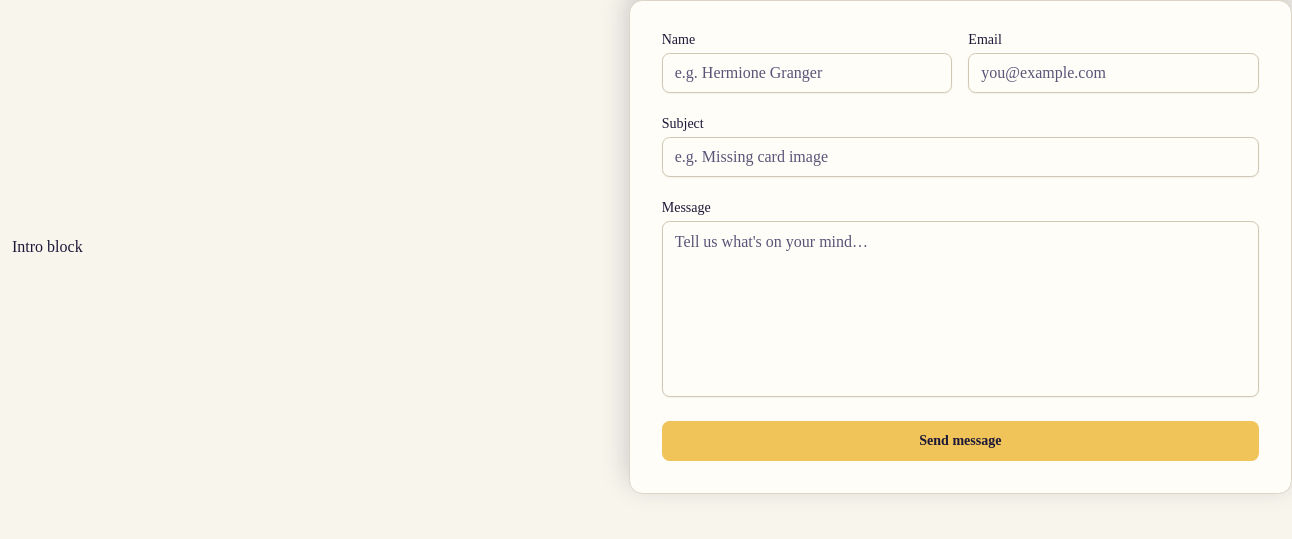
Test: ContactForm › shows the rate-limit error when the action returns error:rate
This screenshot has width=1292, height=539.
Type "Hermione" into the field labelled "Name". click: [807, 73]
box: top-left (662, 53), bottom-right (952, 93)
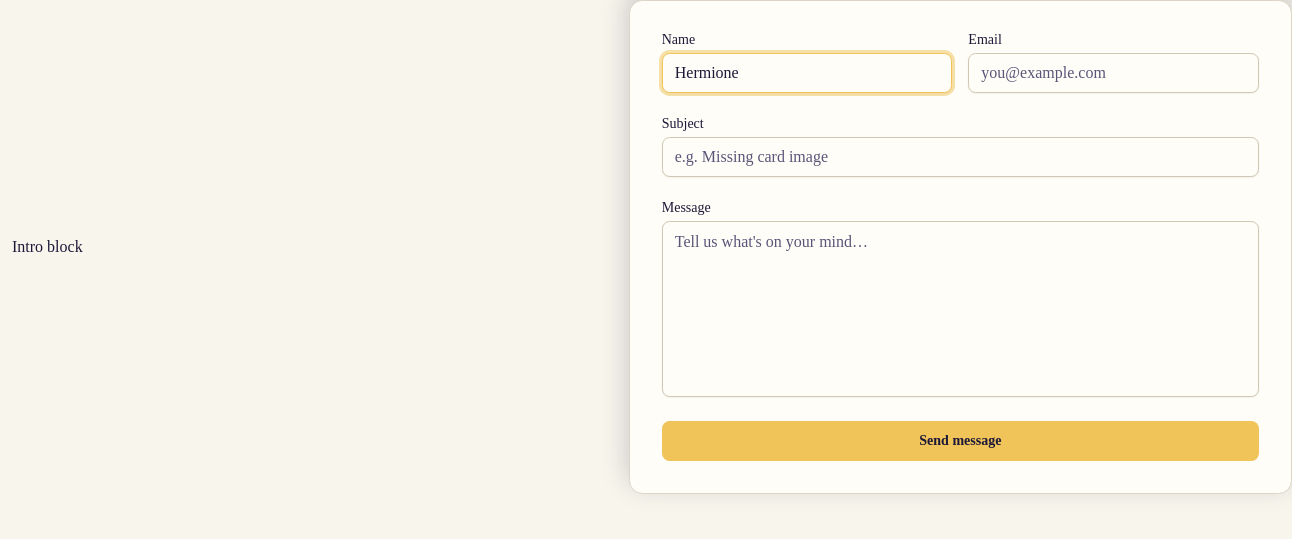
Type "hermione@example.com" into the field labelled "Email". click: [1114, 73]
box: top-left (968, 53), bottom-right (1259, 93)
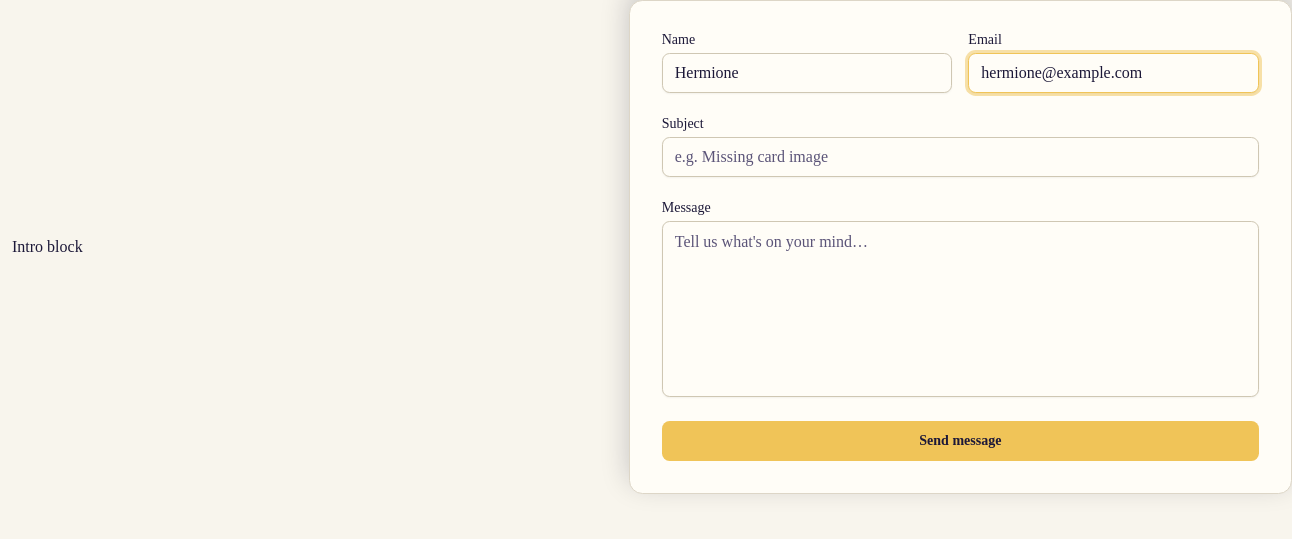
Type "Card data typo" into the field labelled "Subject". click: [960, 157]
box: top-left (662, 137), bottom-right (1259, 177)
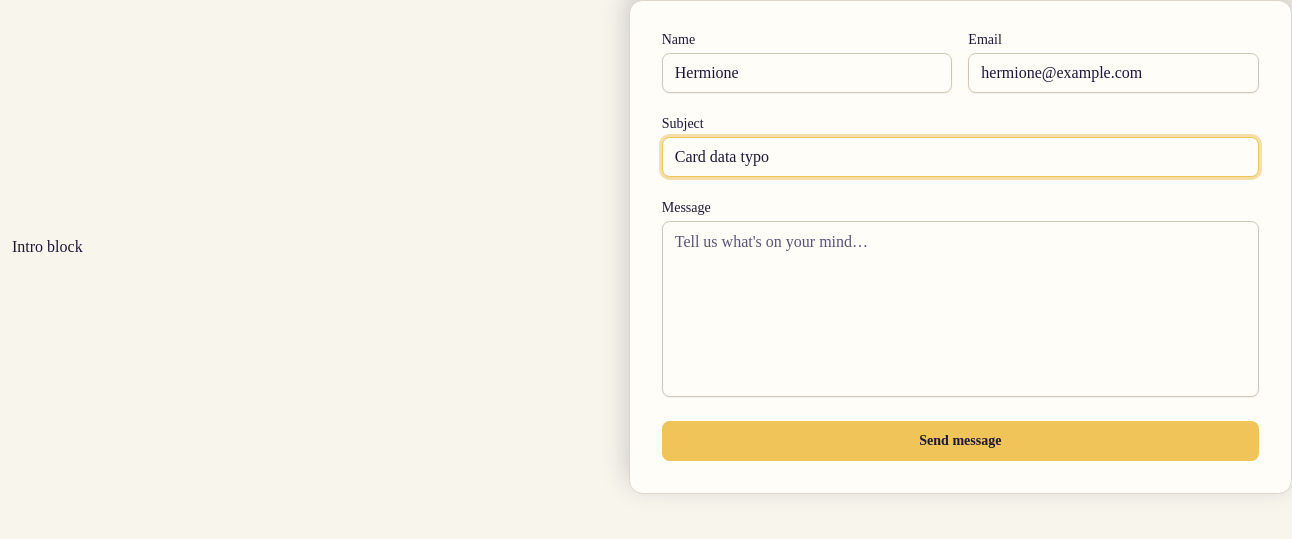
Type "The Lumos card has the wrong lesson cost listed." into the text box labelled "Message". click: [960, 309]
box: top-left (662, 221), bottom-right (1259, 397)
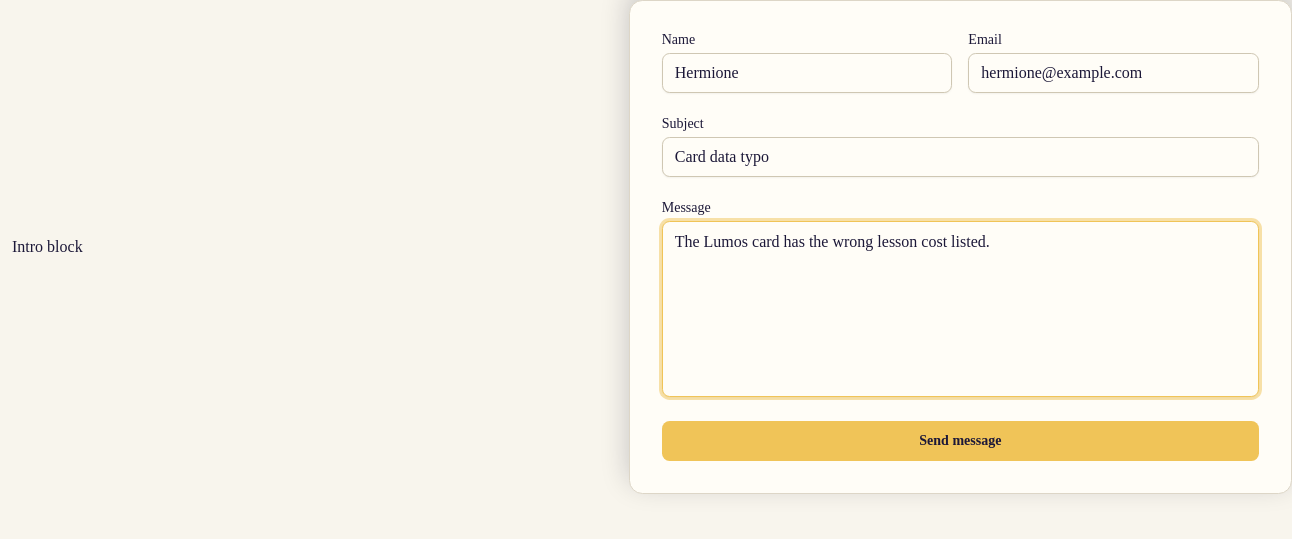
Click the button "Send message". click: [960, 441]
box: top-left (662, 421), bottom-right (1259, 461)
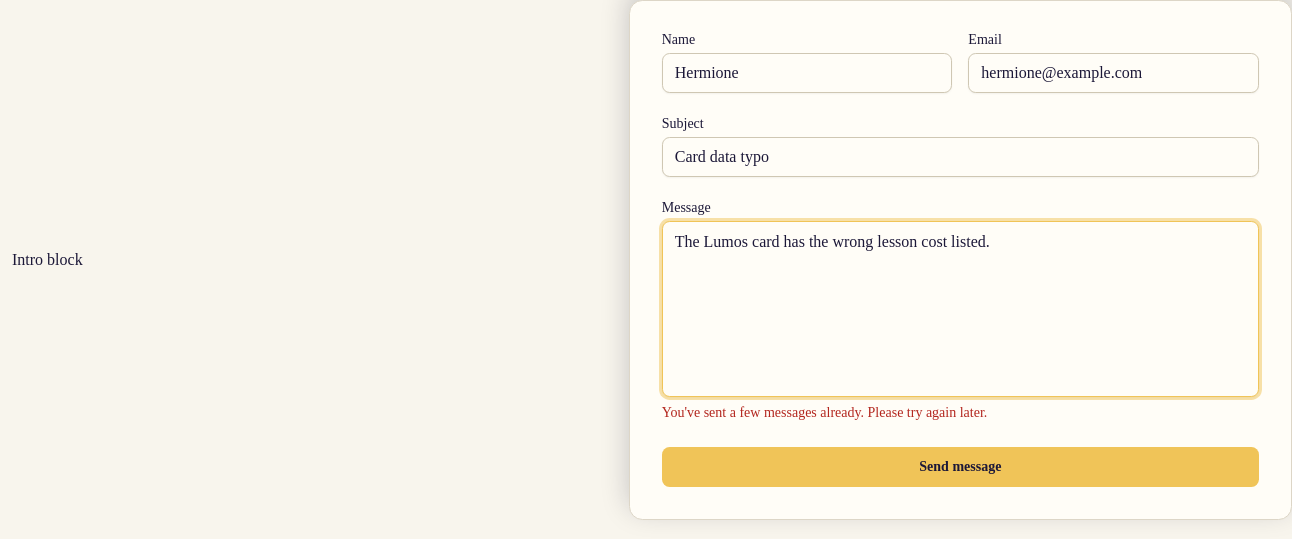
Expected: the text "You've sent a few messages already. Please try again later." is shown, top-left (662, 405), bottom-right (987, 420)
